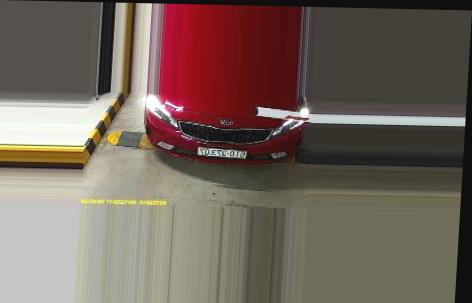License_Plate: (194, 145, 246, 163)
